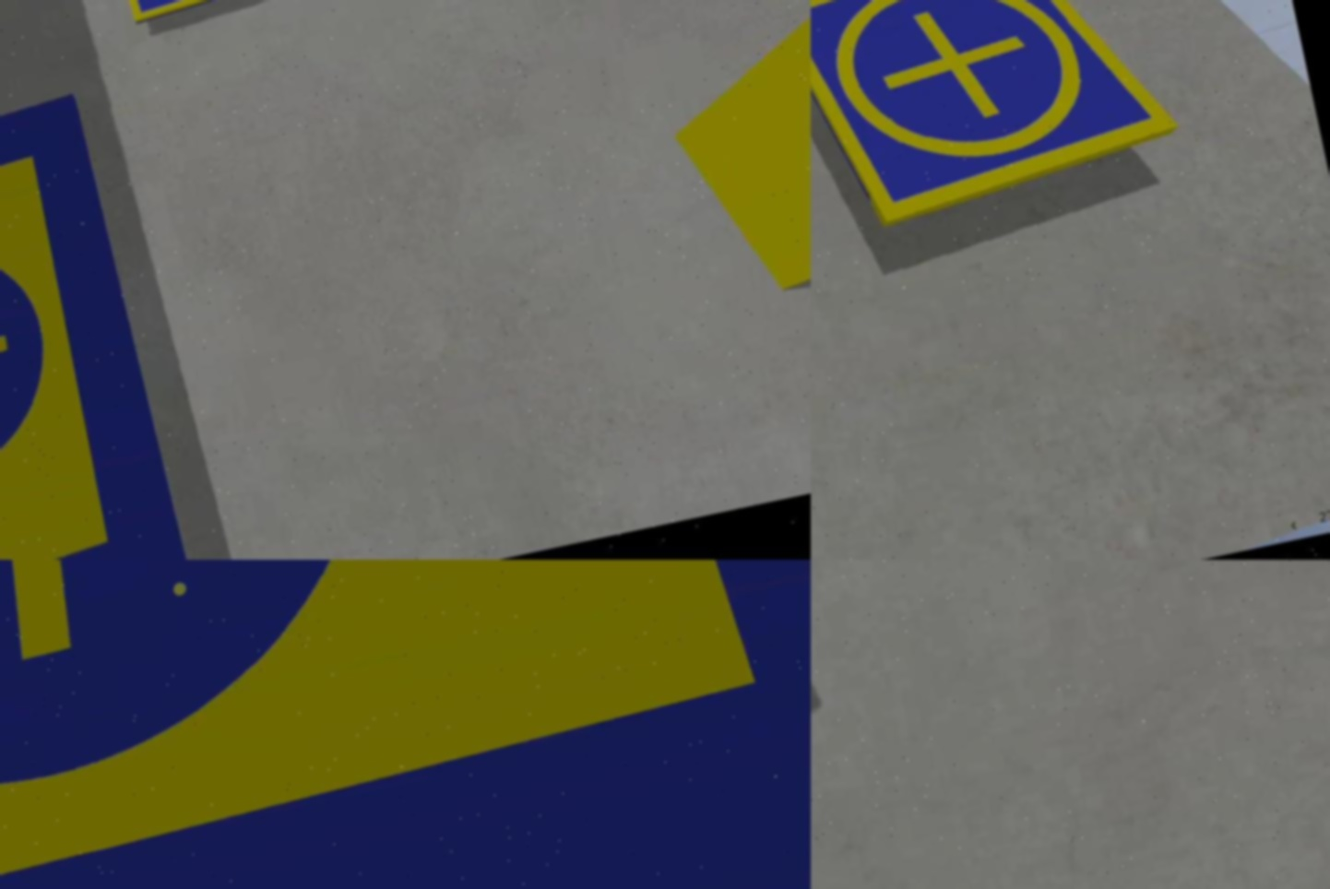large_base: (1, 561, 812, 889), (1, 90, 203, 561)
small_base: (812, 1, 1188, 240)
